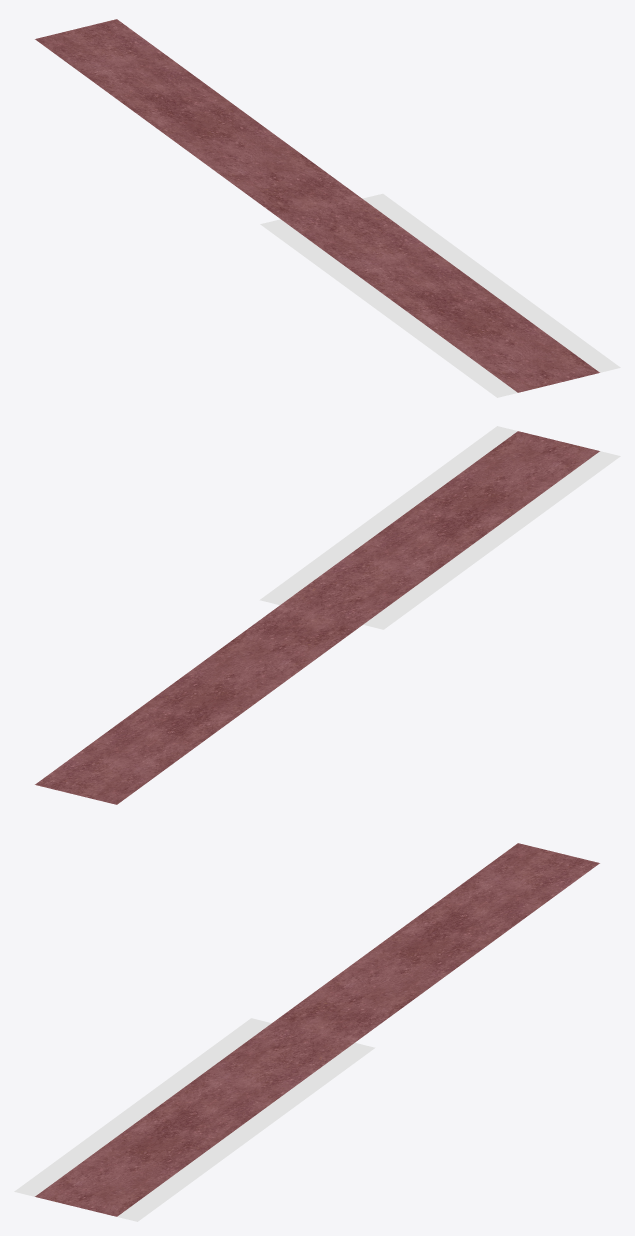
Rendered from BikeCrossWalkDouble.fbx.
3 renders of one model, top to bottom at view 1: azimuth 30°, elevation 25°; view 2: azimuth 150°, elevation 25°; view 3: azimuth 330°, elevation 25°, orthographic.
Visible parts, largest first — view 1: BikeCrosswalk; view 2: BikeCrosswalk; view 3: BikeCrosswalk.
Boxes of the visible parts, x1,y1,x2,y2 form: BikeCrosswalk: (35, 19, 620, 397); BikeCrosswalk: (35, 426, 620, 804); BikeCrosswalk: (14, 843, 599, 1221).
Bounding box in the file's own units: 73.45 × 8.1e-05 × 497.
